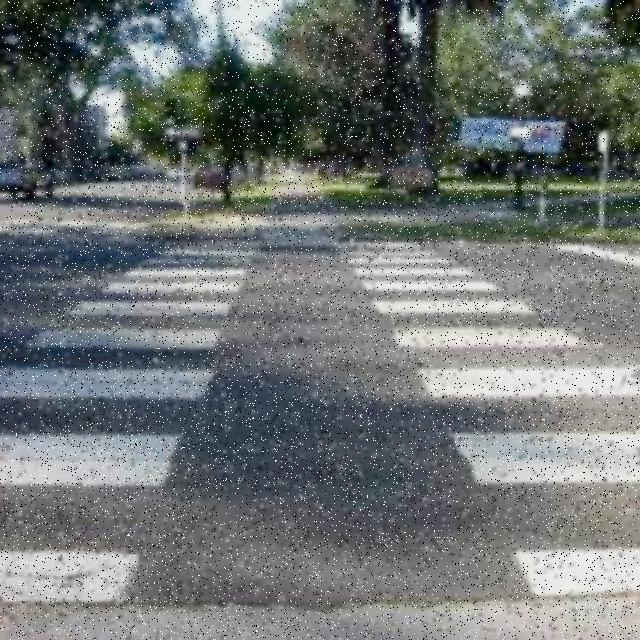Pedestrian crosswalk: (4, 239, 608, 607)
